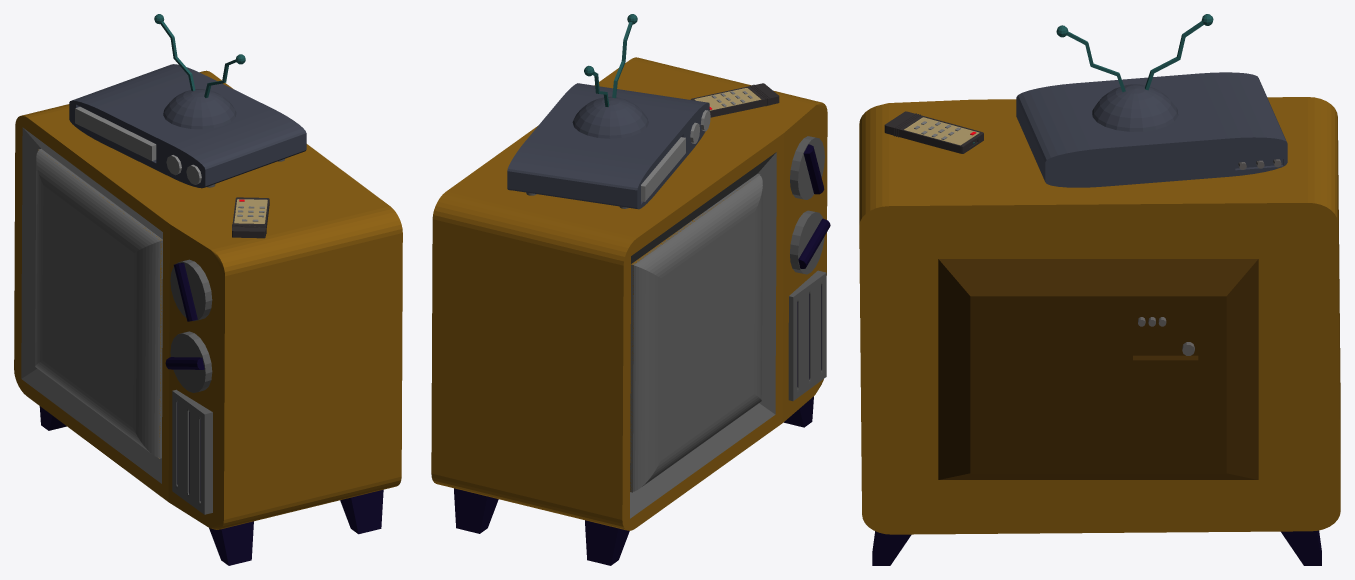
File: tv-RJSul.gltf
3 views of the same model, side by side, from view 1: azimuth 30°, elevation 25°; view 2: azimuth 150°, elevation 25°; view 3: azimuth 270°, elevation 25° (orthographic). The views are drawn at different scales.
Parts seen in each view (by area): view 1: TV Box, Screen, VCRBody, Screen Border, Cube.003, VCRBodySphere, Cylinder.001, VHS-Tape, Cube.011, Cylinder, Cube.010, RemoteBody (+3 smaller); view 2: TV Box, Screen, VCRBody, Screen Border, Cube.003, VCRBodySphere, Cube.008, Cube.009, Cylinder, Cylinder.001, VHS-Tape, RemoteBody (+3 smaller); view 3: TV Box, TV Back, VCRBody, VCRBodySphere, RemoteBody, Cube.009, RemoteFace, Cube.010.
Boxes of the visible parts, x1,y1,x2,y2 form: TV Box: (14, 70, 402, 529); Screen: (35, 149, 162, 458); VCRBody: (69, 64, 306, 188); Screen Border: (21, 127, 162, 483); Cube.003: (172, 389, 212, 514); VCRBodySphere: (163, 89, 236, 129); Cylinder.001: (170, 331, 212, 392); VHS-Tape: (75, 106, 156, 160); Cube.011: (209, 521, 253, 565); Cylinder: (170, 259, 212, 321); Cube.010: (340, 489, 383, 534); RemoteBody: (232, 197, 269, 238); TV Box: (431, 57, 827, 530); Screen: (630, 173, 762, 492); VCRBody: (507, 83, 709, 209); Screen Border: (630, 152, 776, 518); Cube.003: (788, 270, 826, 401); VCRBodySphere: (572, 96, 648, 138); Cube.008: (585, 520, 629, 565); Cube.009: (454, 488, 498, 533); Cylinder: (790, 136, 824, 199); Cylinder.001: (790, 210, 824, 274); VHS-Tape: (641, 137, 685, 201); RemoteBody: (690, 83, 779, 117); TV Box: (859, 97, 1340, 534); TV Back: (938, 259, 1258, 479); VCRBody: (1016, 72, 1287, 187); VCRBodySphere: (1092, 84, 1178, 131); RemoteBody: (884, 111, 983, 153); Cube.009: (1281, 530, 1321, 565); RemoteFace: (904, 117, 979, 145); Cube.010: (872, 531, 911, 565).
Size of the model in its own units: 5.1 by 9.24 by 7.97.
